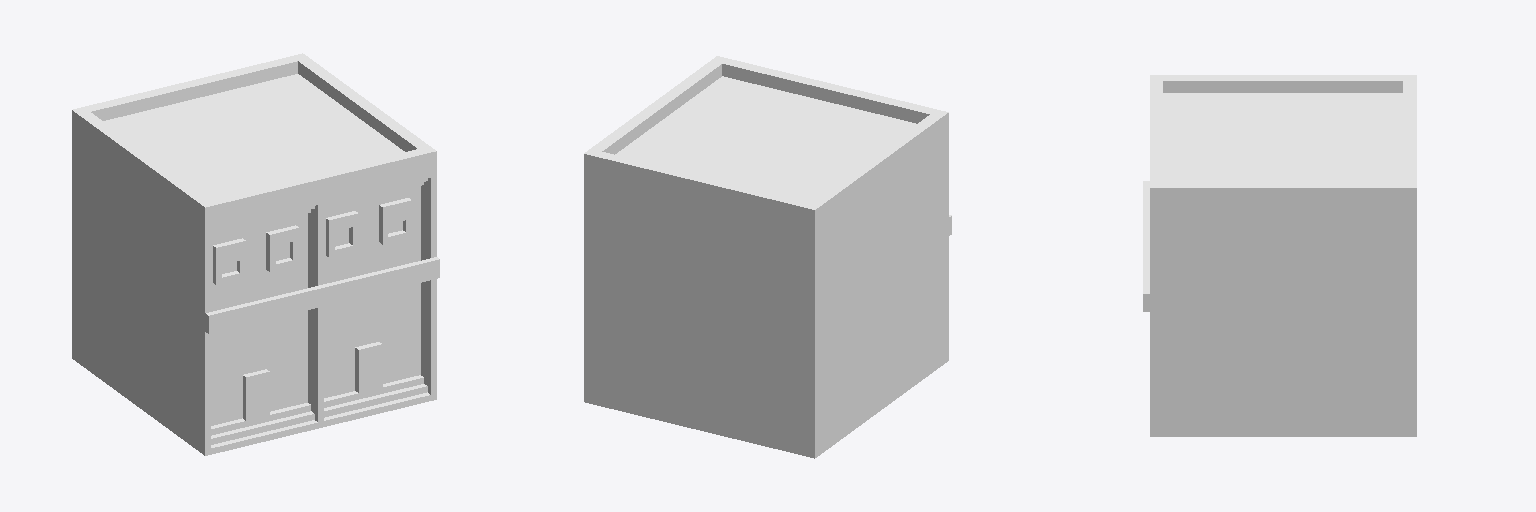
The model's file is Edificio_02.obj.
3 views of the same model, side by side, from view 1: azimuth 30°, elevation 25°; view 2: azimuth 150°, elevation 25°; view 3: azimuth 270°, elevation 25° (orthographic).
Parts seen in each view (by area): view 1: object 1; view 2: object 1; view 3: object 1.
Part boxes in pixels (left/top/right/bottom): object 1: left=72, top=53, right=439, bottom=455; object 1: left=584, top=56, right=951, bottom=458; object 1: left=1143, top=75, right=1416, bottom=436.
Size of the model in its own units: 3.9 by 4 by 4.